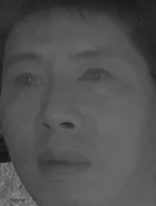eye: (76, 65, 115, 87), (10, 70, 46, 93)
mouth: (36, 145, 92, 179)
